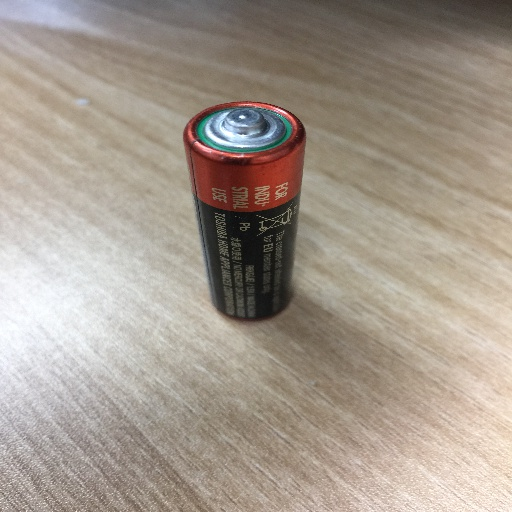Battery_0: (174, 85, 327, 334)
